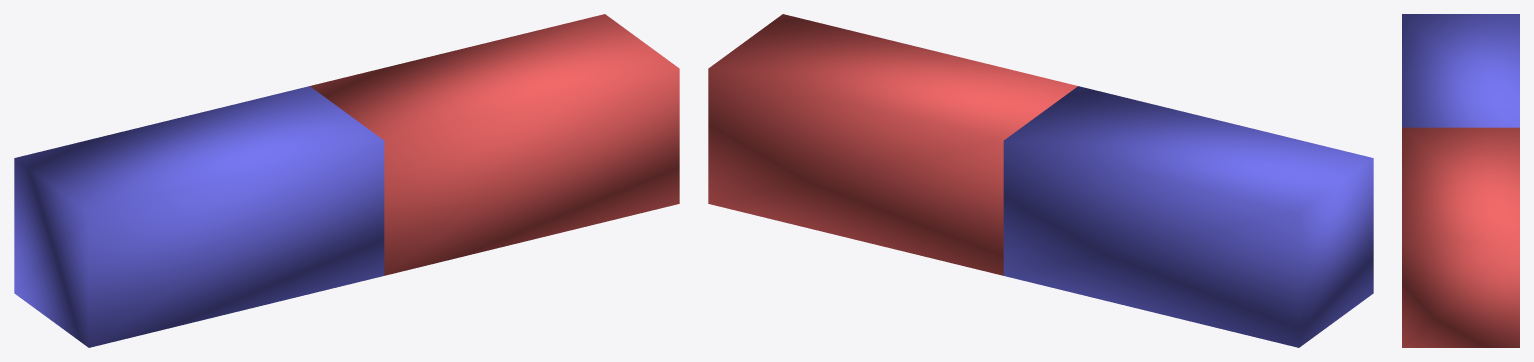
The model's file is bar_magnet.glb.
3 renders of one model, left to right at view 1: azimuth 30°, elevation 25°; view 2: azimuth 150°, elevation 25°; view 3: azimuth 270°, elevation 25°, orthographic. The views are drawn at different scales.
Parts seen in each view (by area): view 1: south, north; view 2: south, north; view 3: north, south.
Part boxes in pixels (x1,y1,x2,y2): south: [14, 86, 384, 347]; north: [310, 14, 679, 275]; south: [1003, 86, 1373, 347]; north: [708, 14, 1077, 275]; north: [1402, 127, 1519, 347]; south: [1402, 14, 1519, 127].
Size of the model in its own units: 1.6 by 0.35 by 0.35.
